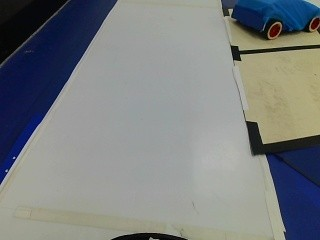car: (227, 0, 318, 45)
